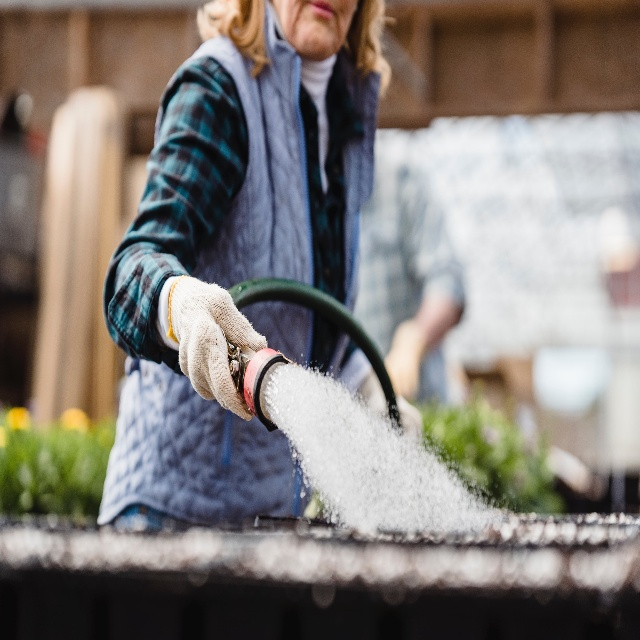Guantes: (168, 275, 268, 423), (384, 318, 425, 402)
